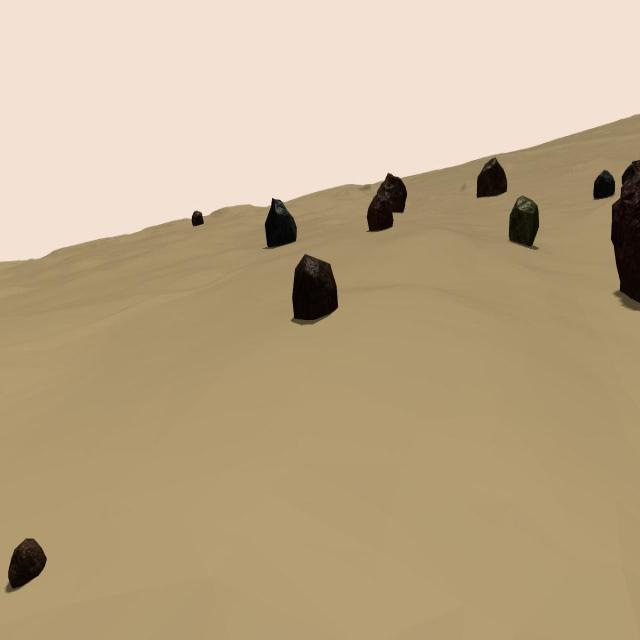rock: (612, 160, 640, 304), (292, 254, 338, 318), (8, 537, 46, 590), (264, 198, 297, 249), (509, 194, 539, 245), (377, 171, 407, 214), (477, 157, 507, 197), (367, 195, 394, 232), (593, 169, 615, 199), (192, 210, 203, 226)
